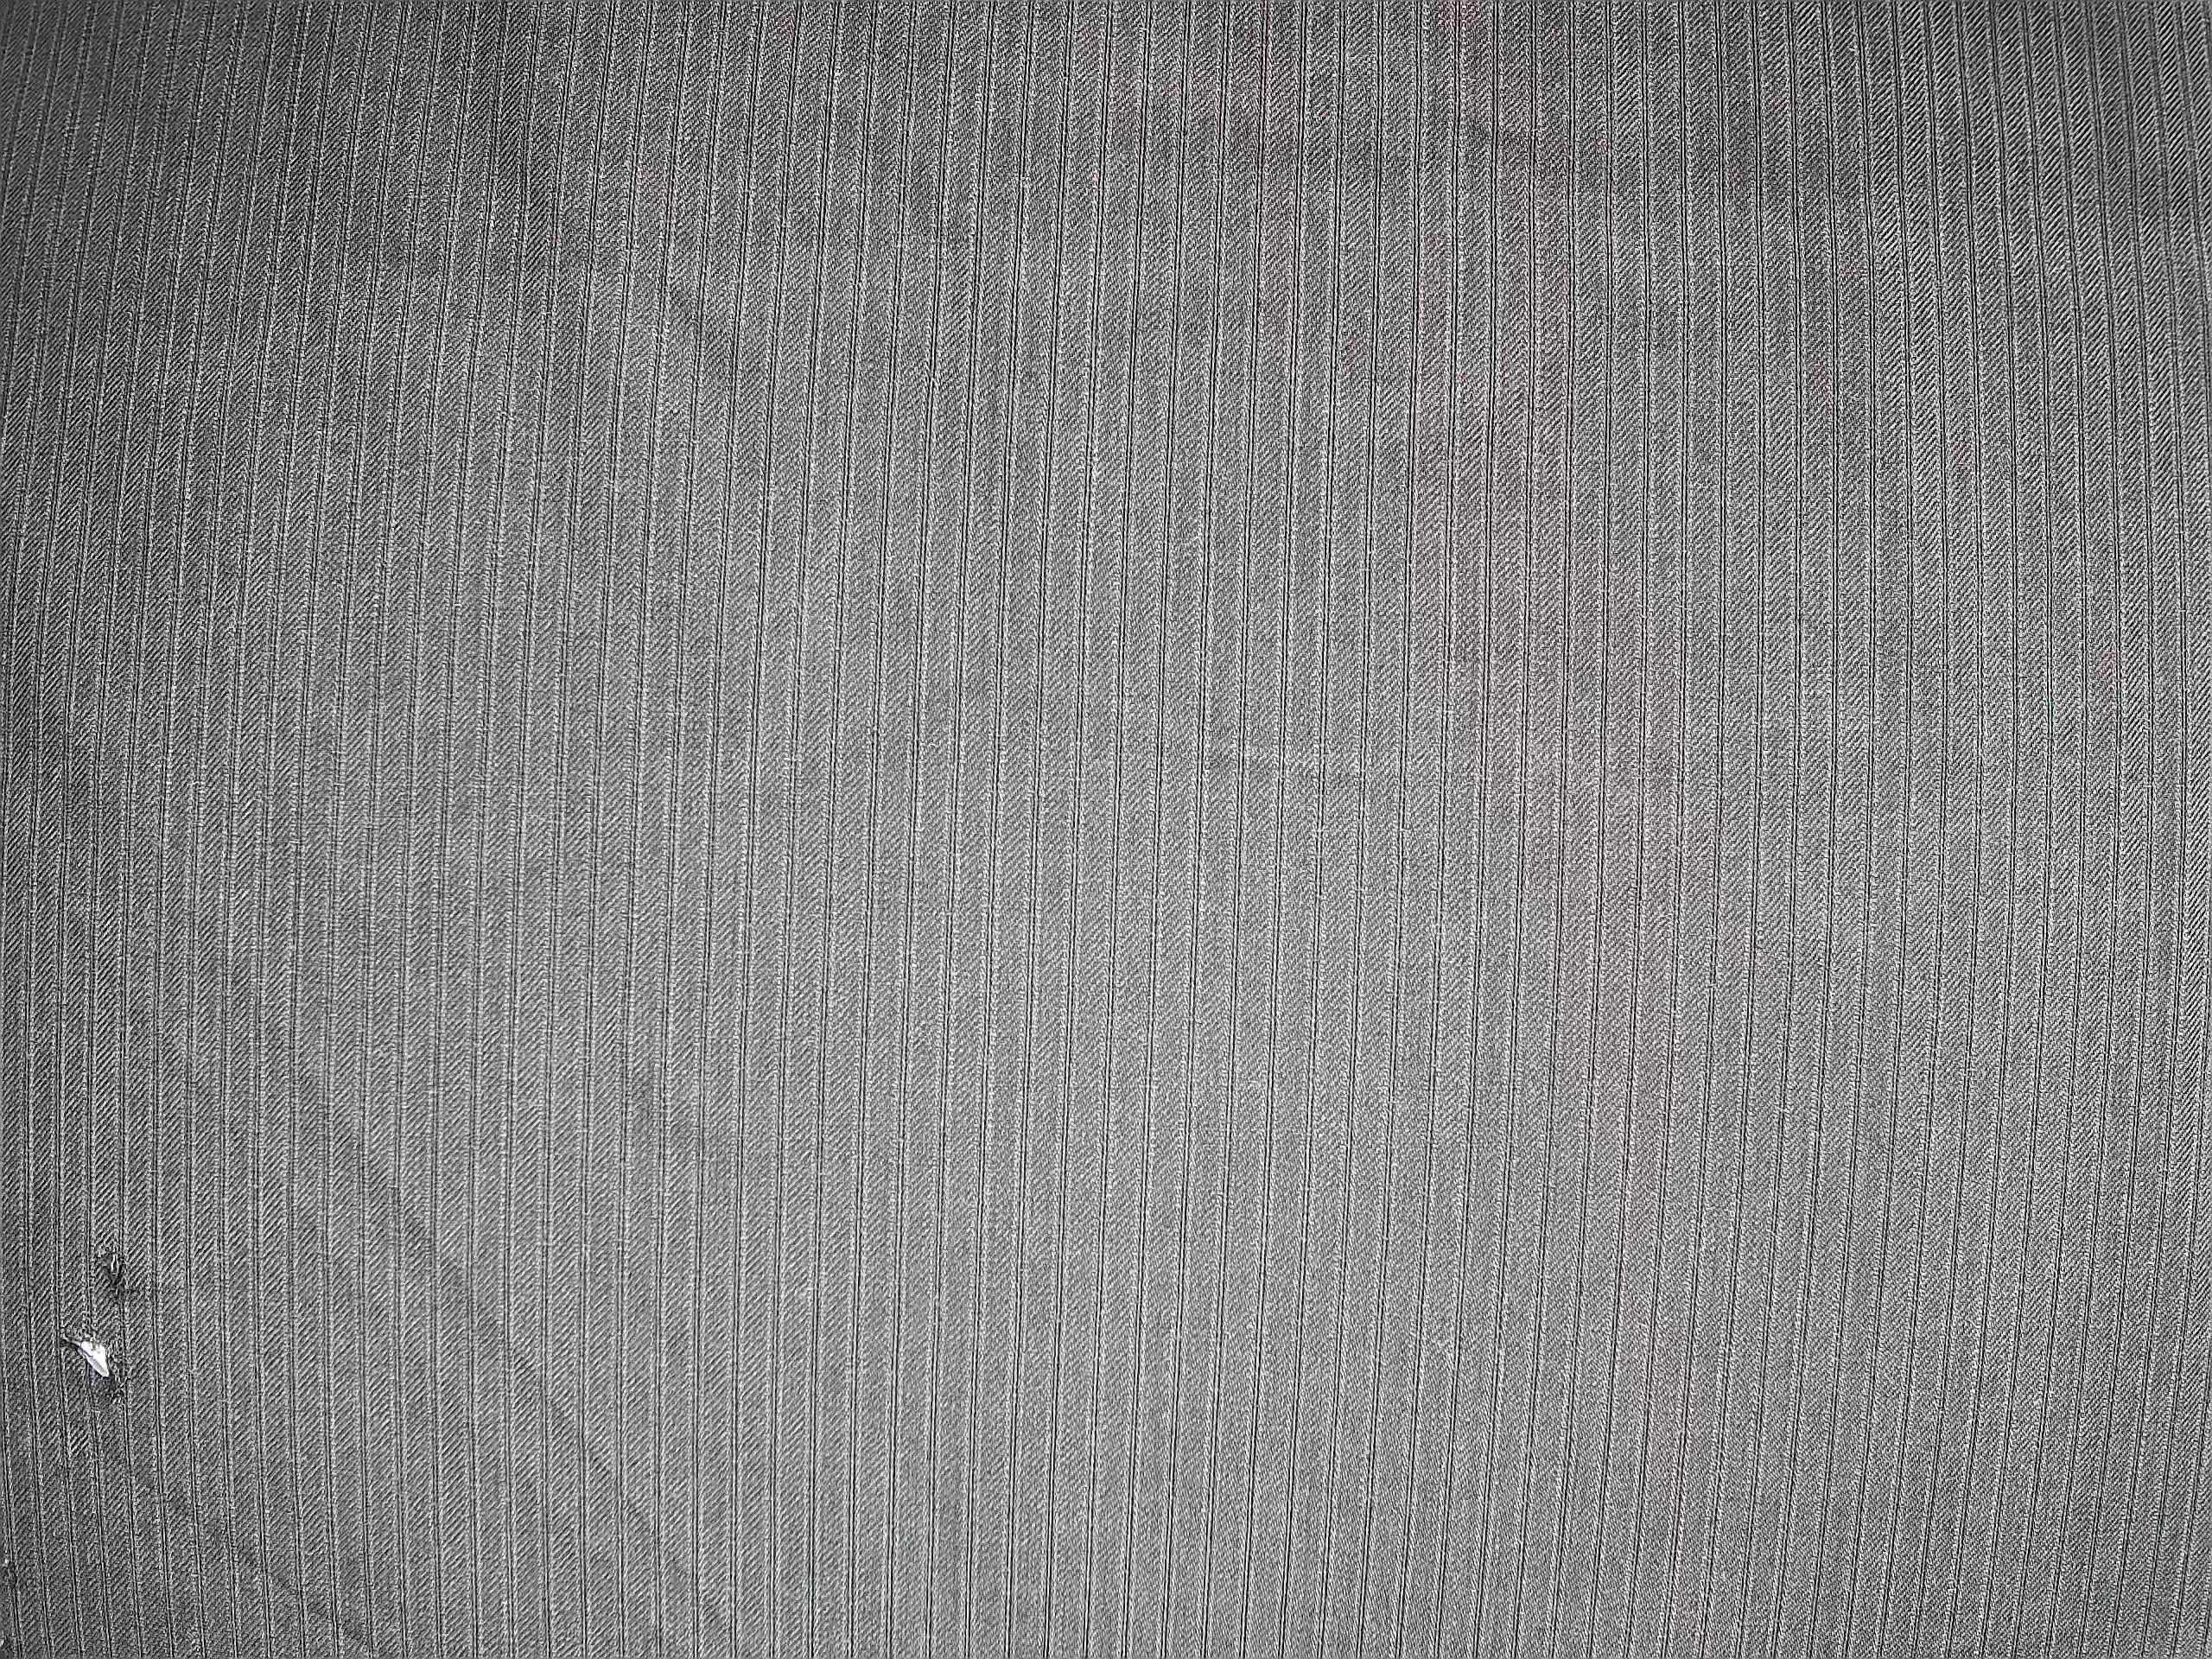puncture-hole: (44, 1239, 174, 1419)
